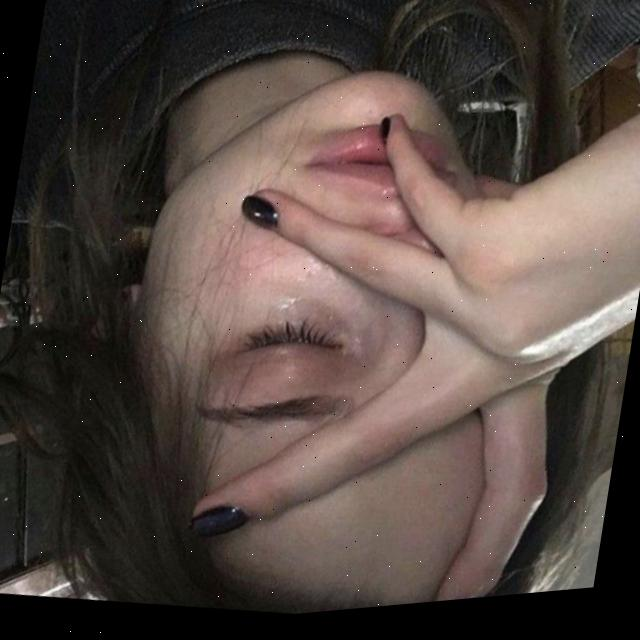natural: (128, 44, 566, 631)
